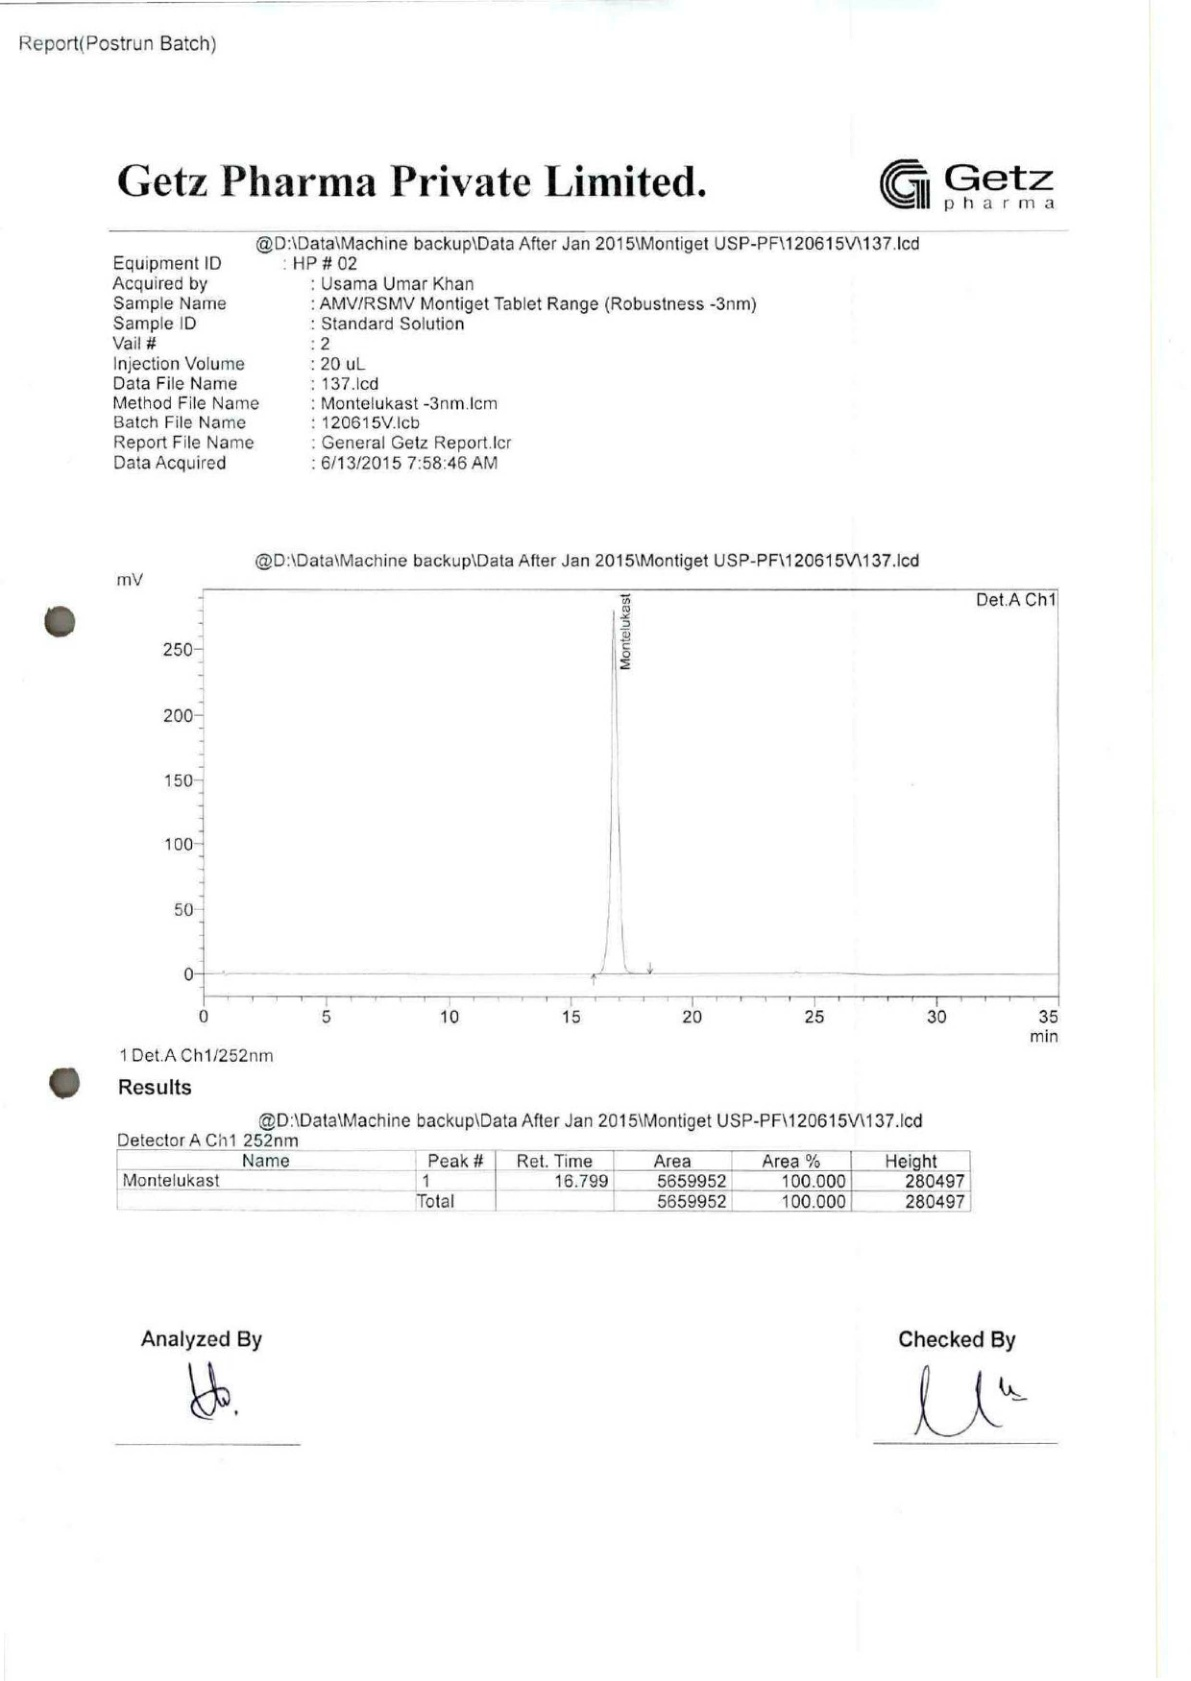full_lined: (113, 1147, 973, 1216)
nolines: (108, 255, 759, 476)
